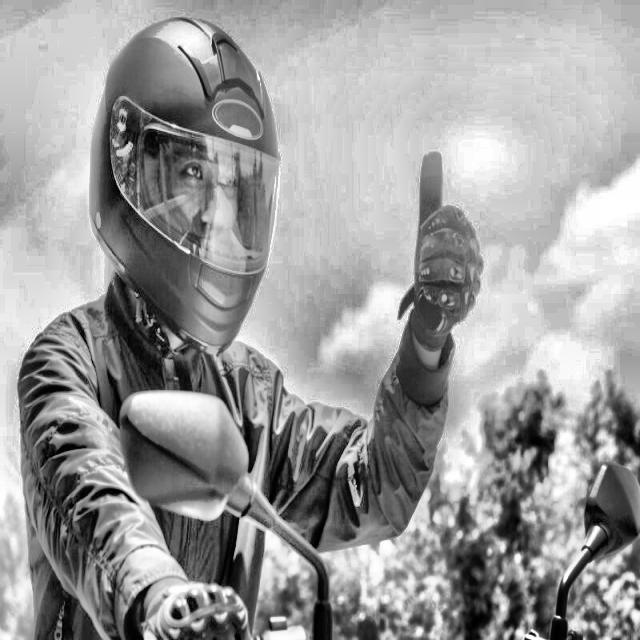Helmet: (86, 15, 283, 365)
